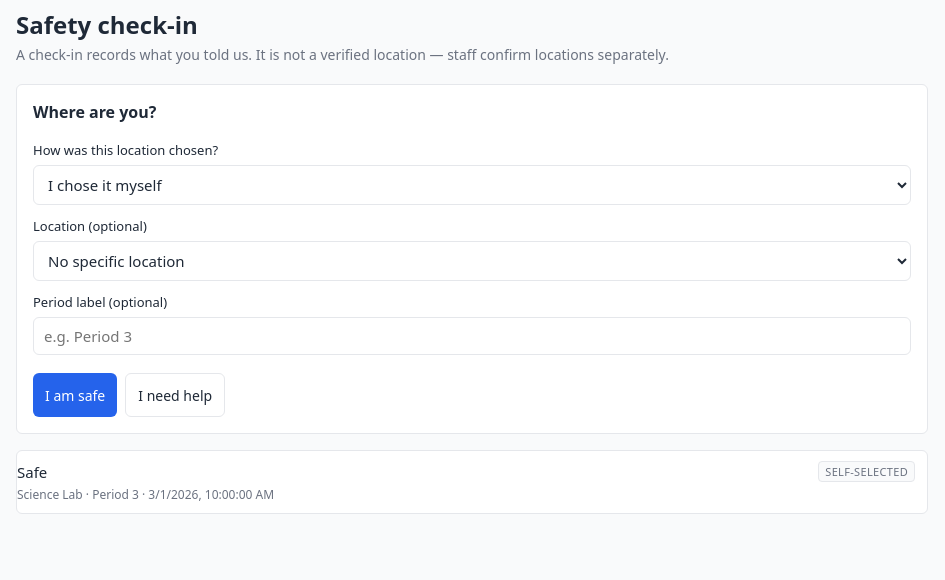
CheckIn › records that help is needed
Expected: the list is shown, [16,450,928,514]
Click the button "I need help". click: (175, 395)
box: [125,373,225,417]
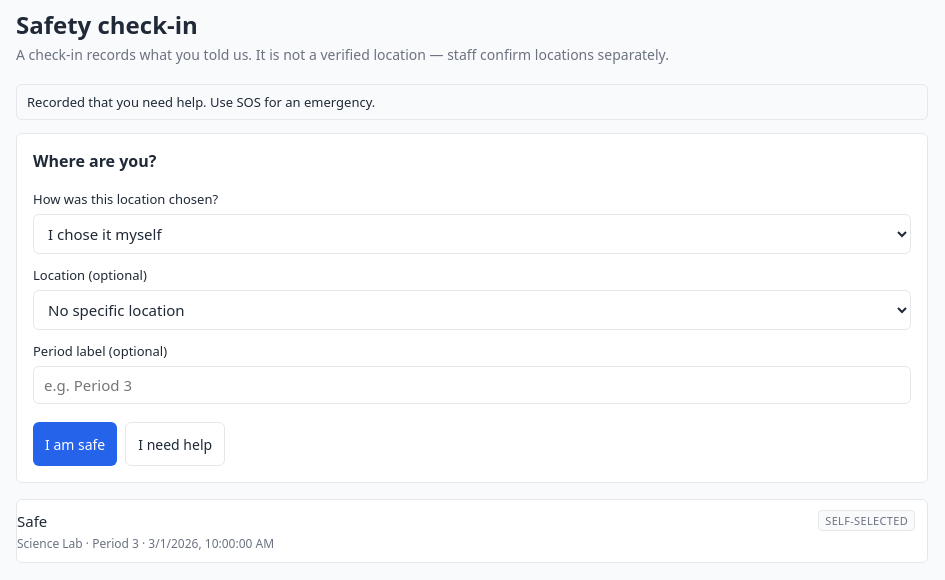
Expected: the message shows "need help", [27,93,375,111]
